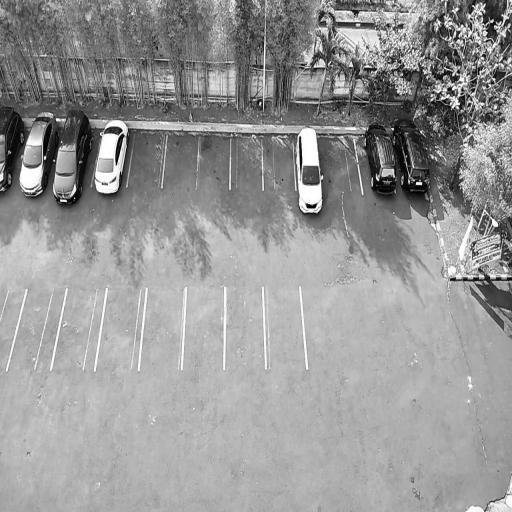Car: (46, 101, 95, 210), (12, 102, 64, 204), (388, 110, 436, 200), (357, 112, 402, 199), (90, 112, 132, 196), (293, 125, 327, 217), (0, 97, 27, 203)
Space Available: (6, 285, 66, 370), (52, 284, 106, 369), (94, 285, 146, 370), (139, 283, 185, 370), (263, 285, 307, 371), (182, 283, 224, 369), (224, 284, 265, 369), (126, 132, 167, 187), (0, 286, 26, 368), (161, 132, 199, 188), (196, 132, 230, 189), (262, 137, 295, 192), (230, 137, 264, 190)
